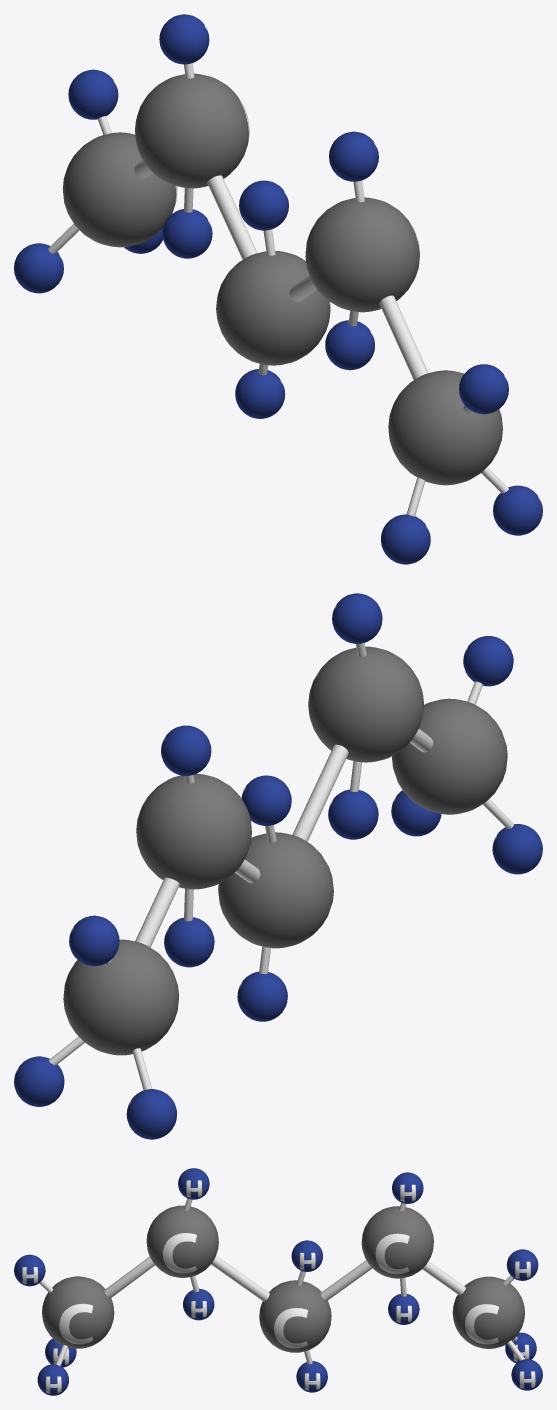
Rendered from pentane.glb.
3 views of the same model, one above another, from view 1: azimuth 30°, elevation 25°; view 2: azimuth 150°, elevation 25°; view 3: azimuth 270°, elevation 25° (orthographic). The views are drawn at different scales.
Parts seen in each view (by area): view 1: carbon3, carbon1, carbon2, carbon, carbon4, hydrogen.006, hydrogen.008, hydrogen.002, hydrogen.003, hydrogen.009, hydrogen.001, hydrogen (+6 smaller); view 2: carbon3, carbon1, carbon4, carbon2, carbon, hydrogen.009, hydrogen.003, hydrogen.010, hydrogen.008, hydrogen.002, hydrogen.005, hydrogen.001 (+7 smaller); view 3: carbon1, carbon3, carbon, carbon4, carbon2, hydrogen.008, hydrogen.003, hydrogen.002, hydrogen.011, hydrogen.006, hydrogen.009, hydrogen (+9 smaller).
Boxes of the visible parts, x1,y1,x2,y2 form: carbon3: [135, 73, 249, 188]; carbon1: [305, 197, 419, 312]; carbon2: [216, 251, 330, 365]; carbon: [388, 370, 502, 485]; carbon4: [62, 132, 177, 247]; hydrogen.006: [239, 180, 288, 230]; hydrogen.008: [159, 14, 209, 64]; hydrogen.002: [459, 364, 508, 414]; hydrogen.003: [329, 131, 378, 181]; hydrogen.009: [68, 69, 118, 119]; hydrogen.001: [381, 514, 430, 564]; hydrogen: [493, 485, 542, 535]; carbon3: [136, 773, 251, 889]; carbon1: [308, 646, 423, 762]; carbon4: [63, 939, 178, 1055]; carbon2: [218, 832, 333, 948]; carbon: [392, 698, 507, 814]; hydrogen.009: [69, 915, 119, 966]; hydrogen.003: [332, 593, 382, 643]; hydrogen.010: [126, 1089, 176, 1139]; hydrogen.008: [161, 725, 211, 775]; hydrogen.002: [463, 636, 513, 686]; hydrogen.005: [237, 971, 287, 1021]; hydrogen.001: [492, 824, 542, 874]; carbon1: [146, 1205, 218, 1277]; carbon3: [361, 1206, 433, 1278]; carbon: [42, 1276, 114, 1348]; carbon4: [452, 1276, 524, 1348]; carbon2: [259, 1280, 331, 1352]; hydrogen.008: [392, 1172, 423, 1203]; hydrogen.003: [178, 1168, 209, 1199]; hydrogen.002: [14, 1254, 45, 1286]; hydrogen.011: [511, 1359, 542, 1390]; hydrogen.006: [291, 1240, 322, 1271]; hydrogen.009: [506, 1249, 538, 1280]; hydrogen: [37, 1364, 68, 1395].
Size of the model in its own units: 0.8845 by 1.96 by 4.23.
Materials: 3 (2 with a texture image).
